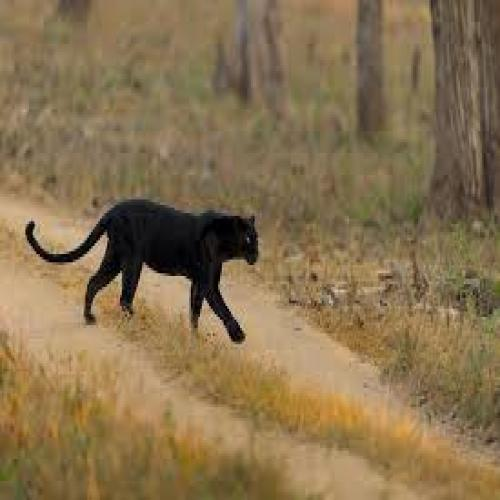panther-endangered: (24, 199, 261, 344)
